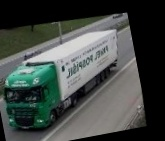truck: (0, 23, 133, 140)
